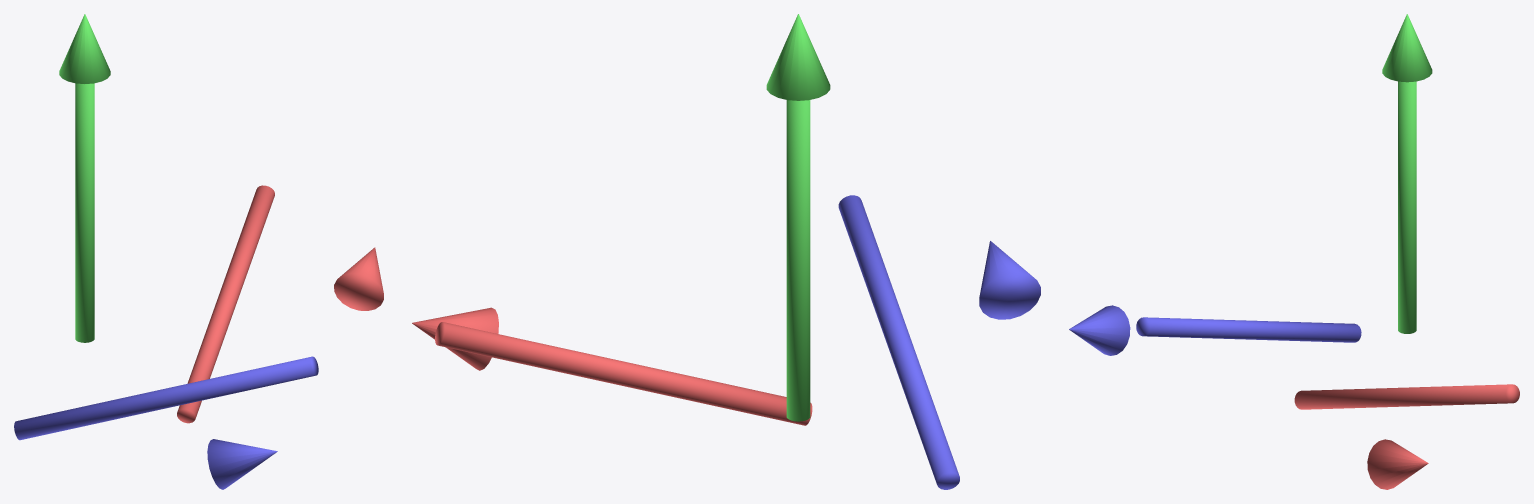
File: coordinate_axes.glb
The picture shows the model from 3 angles, left to right: view 1: azimuth 30°, elevation 25°; view 2: azimuth 150°, elevation 25°; view 3: azimuth 270°, elevation 25°; orthographic projection. The views are drawn at different scales.
Visible parts, largest first — view 1: z_s, y_s, x_s, x_c, y_c, z_c; view 2: x_s, y_s, z_s, z_c, y_c, x_c; view 3: y_s, x_s, z_s, y_c, x_c, z_c.
Part boxes in pixels (x1,y1,x2,y2): z_s: [14, 356, 318, 440]; y_s: [75, 83, 94, 342]; x_s: [177, 185, 274, 423]; x_c: [334, 247, 383, 310]; y_c: [59, 14, 110, 83]; z_c: [207, 439, 277, 489]; x_s: [435, 322, 812, 425]; y_s: [786, 100, 810, 421]; z_s: [838, 195, 959, 489]; z_c: [979, 241, 1040, 319]; y_c: [766, 14, 830, 100]; x_c: [412, 307, 498, 370]; y_s: [1398, 81, 1416, 333]; x_s: [1294, 384, 1519, 409]; z_s: [1136, 317, 1361, 342]; y_c: [1382, 14, 1432, 82]; x_c: [1367, 439, 1428, 489]; z_c: [1069, 305, 1130, 355].
Size of the model in its own units: 1.42 by 1.29 by 1.42.
